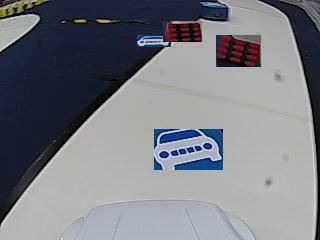prop: (201, 2, 228, 21)
